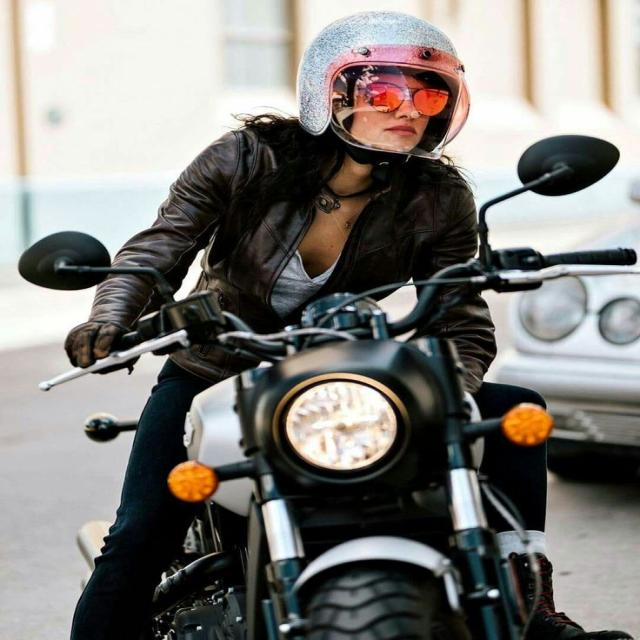Helmet: (280, 2, 480, 166)
